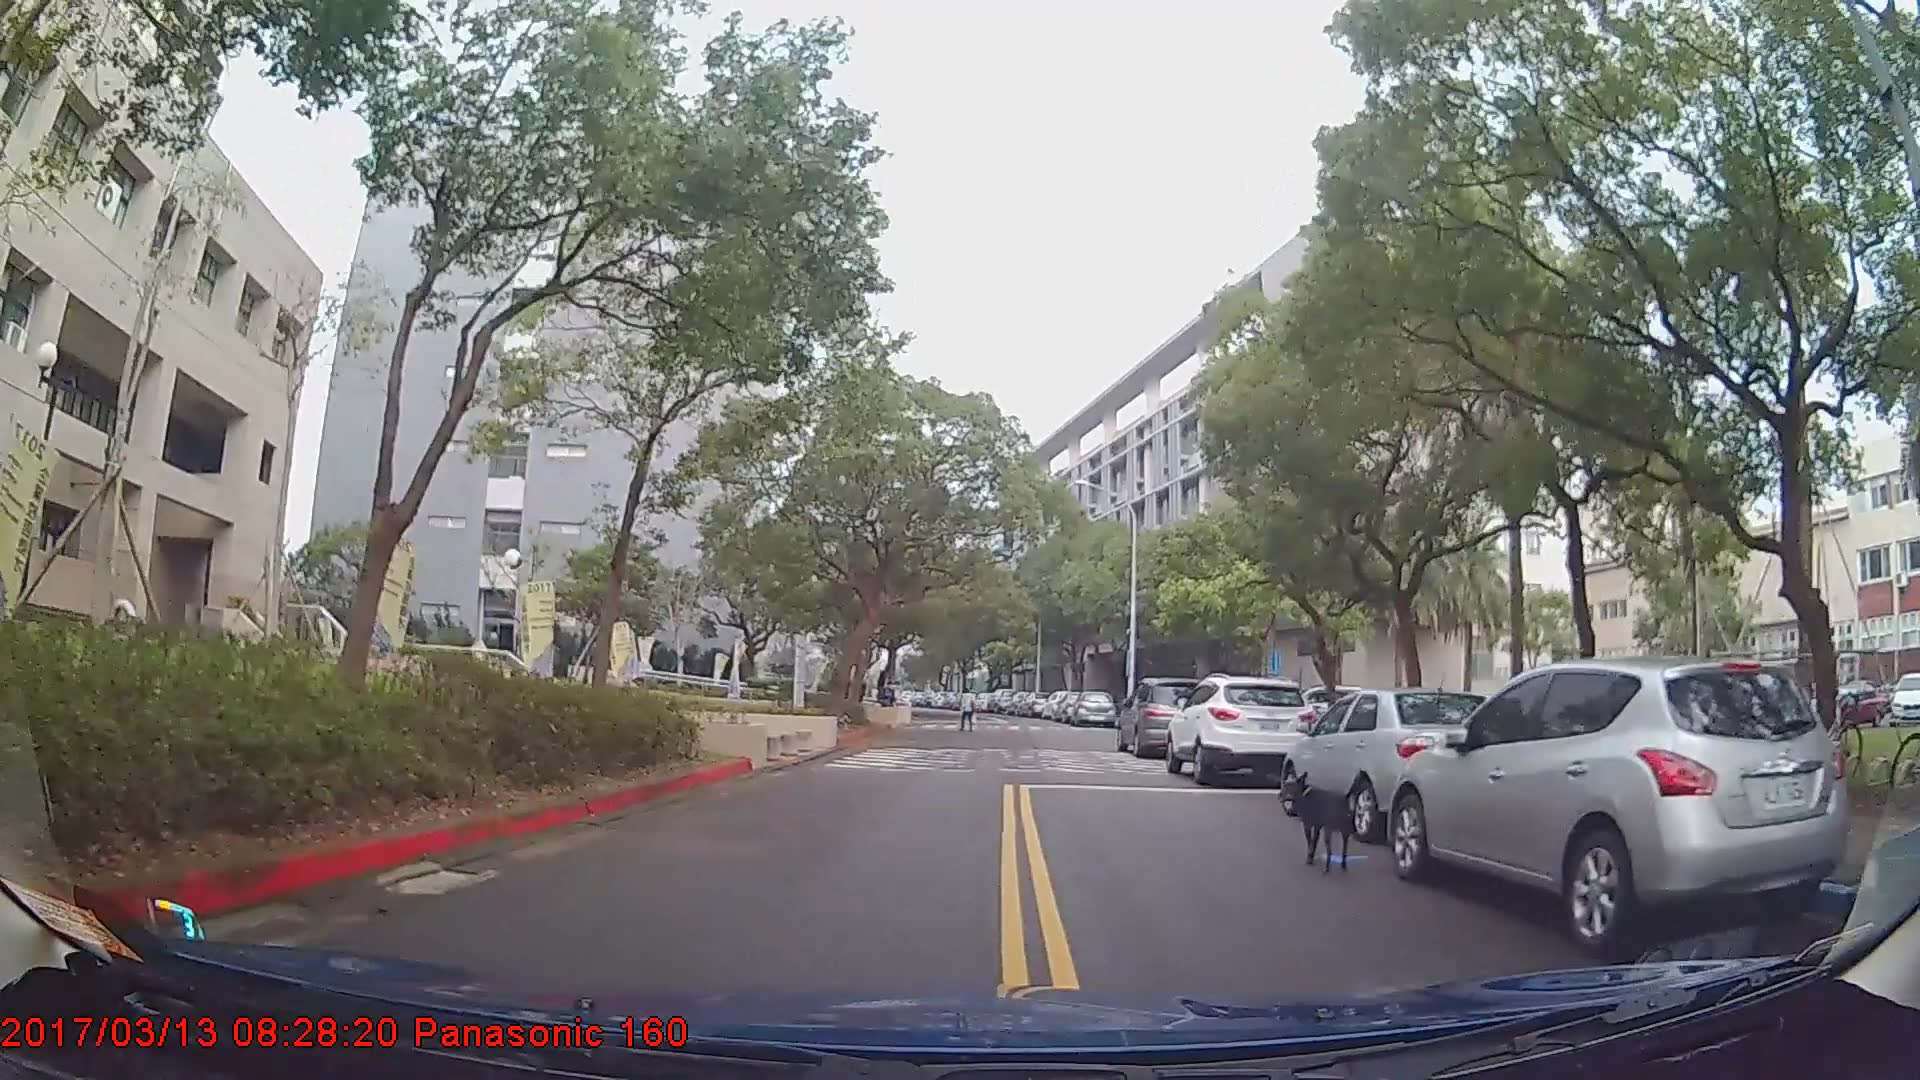pedestrian: (958, 688, 979, 733)
vehicle: (1384, 654, 1862, 947), (1280, 688, 1508, 841), (1166, 670, 1319, 782), (1114, 673, 1224, 753), (1070, 686, 1117, 727), (1889, 670, 1920, 721), (984, 686, 1013, 714)
